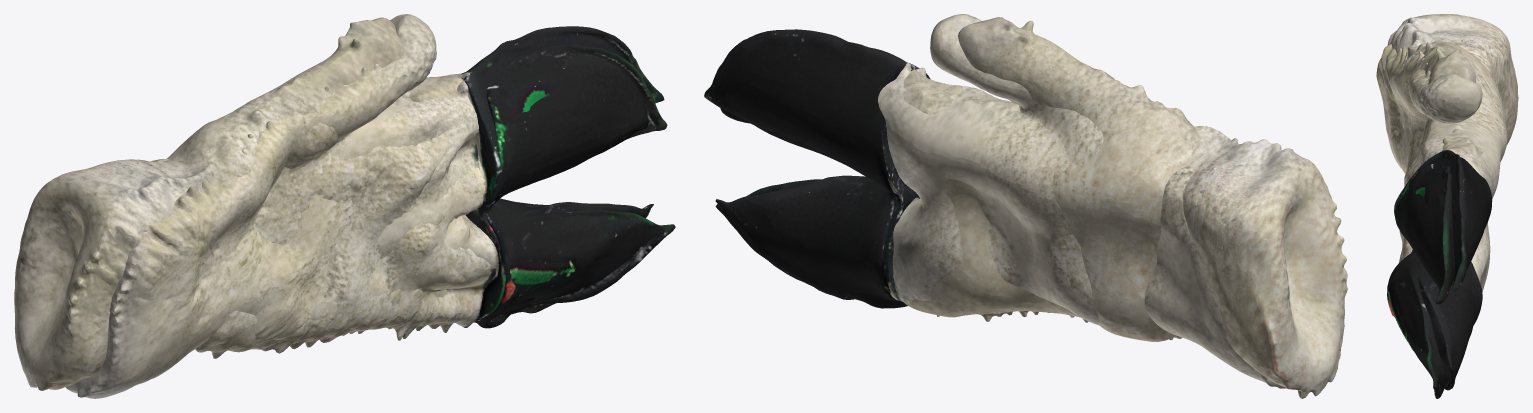
The model's file is gloves_tripo_closed.glb.
The picture shows the model from 3 angles, left to right: view 1: azimuth 30°, elevation 25°; view 2: azimuth 150°, elevation 25°; view 3: azimuth 270°, elevation 25°; orthographic projection. The views are drawn at different scales.
Visible parts, largest first — view 1: Glove_R_tripo, Glove_L_tripo; view 2: Glove_L_tripo, Glove_R_tripo; view 3: Glove_R_tripo, Glove_L_tripo.
Part boxes in pixels (<box>): Glove_R_tripo: <box>65,14,675,398</box>; Glove_L_tripo: <box>14,17,664,390</box>; Glove_L_tripo: <box>704,17,1347,398</box>; Glove_R_tripo: <box>715,14,1286,388</box>; Glove_R_tripo: <box>1376,39,1507,398</box>; Glove_L_tripo: <box>1387,14,1518,390</box>.
Bounding box in the file's own units: 0.3017 × 0.1496 × 0.0728.
Materials: 2 (2 with a texture image).
